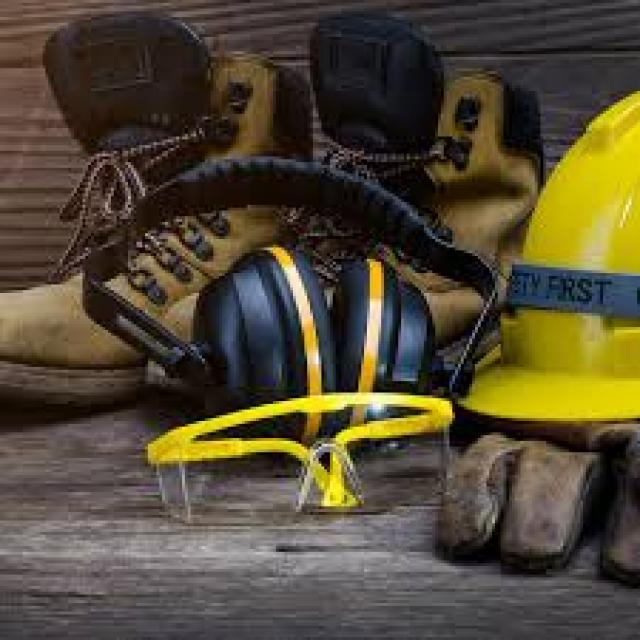Safety-Helmet: (432, 71, 640, 450)
